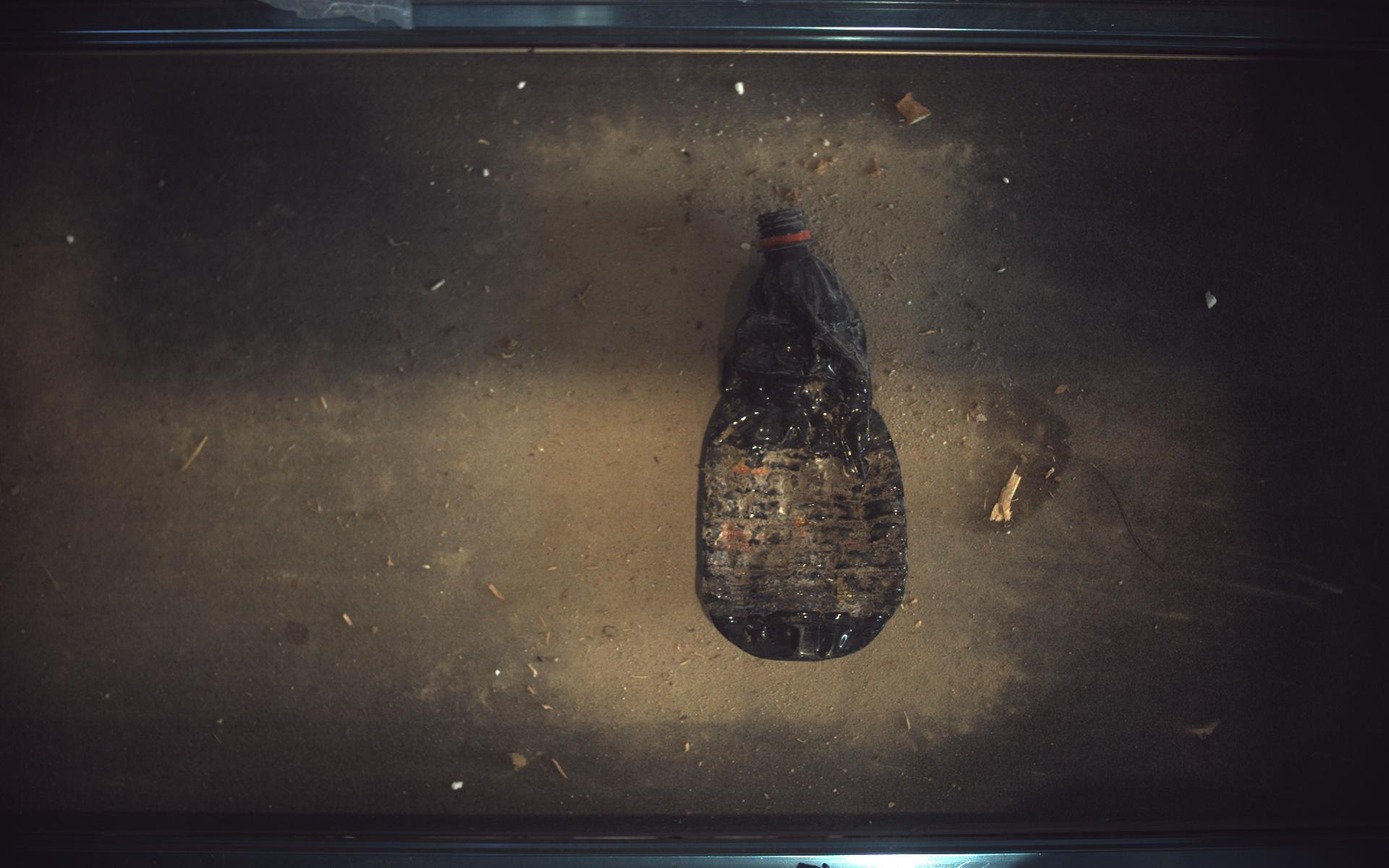general_w: (698, 208, 909, 661)
